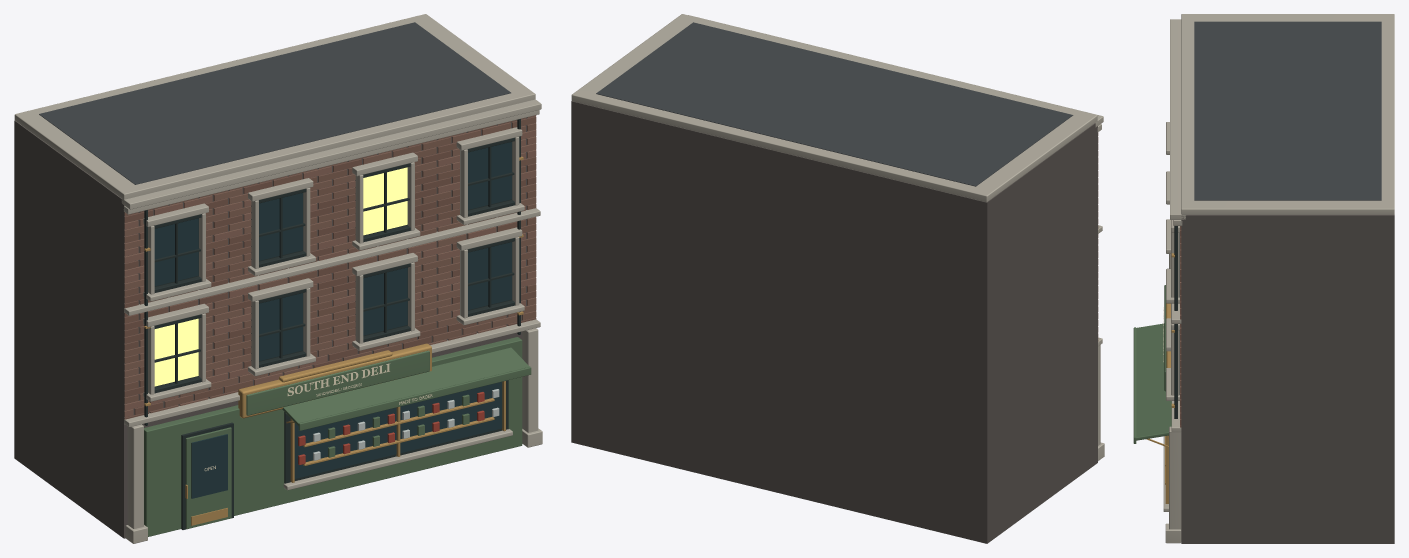
Rendered from district-south-end-deli.glb.
The picture shows the model from 3 angles, left to right: view 1: azimuth 30°, elevation 25°; view 2: azimuth 150°, elevation 25°; view 3: azimuth 270°, elevation 25°; orthographic projection. The views are drawn at different scales.
Visible parts, largest first — view 1: Existing envelope, District Warm limestone, District Roof membrane, District Opaque dark glazing, District Coffee enamel, Roof cap, District Charcoal painted metal, District Brick tone 3, District Brick tone 0, District Brick tone 4, District Brick tone 2, District Brick tone 1 (+7 smaller); view 2: Existing envelope, District Roof membrane, Roof cap, District Warm limestone; view 3: Existing envelope, District Roof membrane, Roof cap, District Warm limestone, District Coffee enamel, District Charcoal painted metal, District Aged brass.
Part boxes in pixels (x1,y1,x2,y2): Existing envelope: (14,116,535,538); District Warm limestone: (121,99,542,543); District Roof membrane: (39,22,510,184); District Opaque dark glazing: (154,142,511,498); District Coffee enamel: (144,337,531,536); Roof cap: (14,14,535,199); District Charcoal painted metal: (144,119,520,529); District Brick tone 3: (124,122,536,400); District Brick tone 0: (124,125,536,419); District Brick tone 4: (124,115,536,417); District Brick tone 2: (124,123,536,413); District Brick tone 1: (124,116,536,407); Existing envelope: (571,101,1097,543); District Roof membrane: (596,22,1073,186); Roof cap: (571,14,1097,202); District Warm limestone: (688,15,1104,460); Existing envelope: (1181,215,1394,543); District Roof membrane: (1194,21,1381,200); Roof cap: (1181,14,1394,214); District Warm limestone: (1163,19,1185,543); District Coffee enamel: (1133,323,1171,443); District Charcoal painted metal: (1174,226,1179,418); District Aged brass: (1146,253,1174,503).
Bounding box in the file's own units: 11.7 × 9.36 × 6.62.
